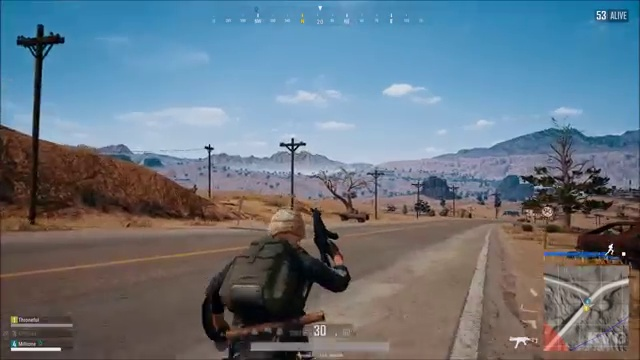Player: (180, 196, 382, 324)
